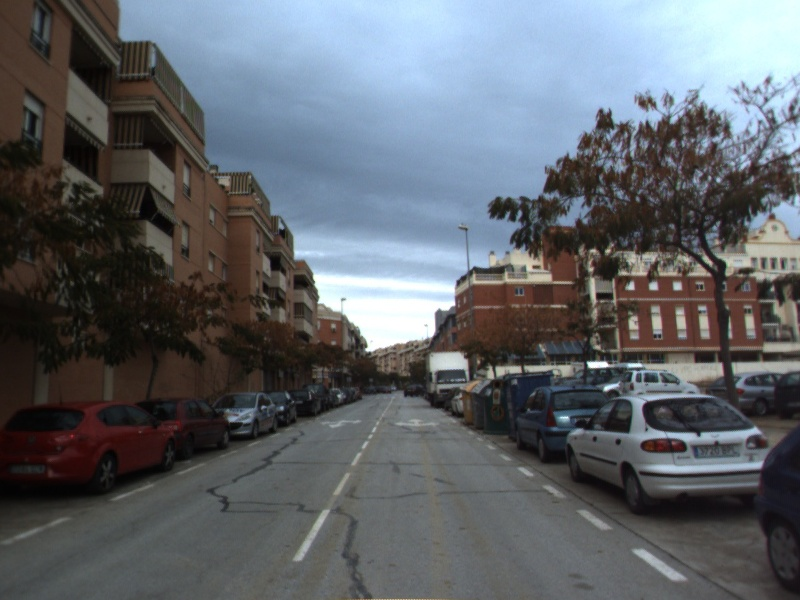STRAIGHT_LEFT_RIGHT: (392, 416, 442, 429)
